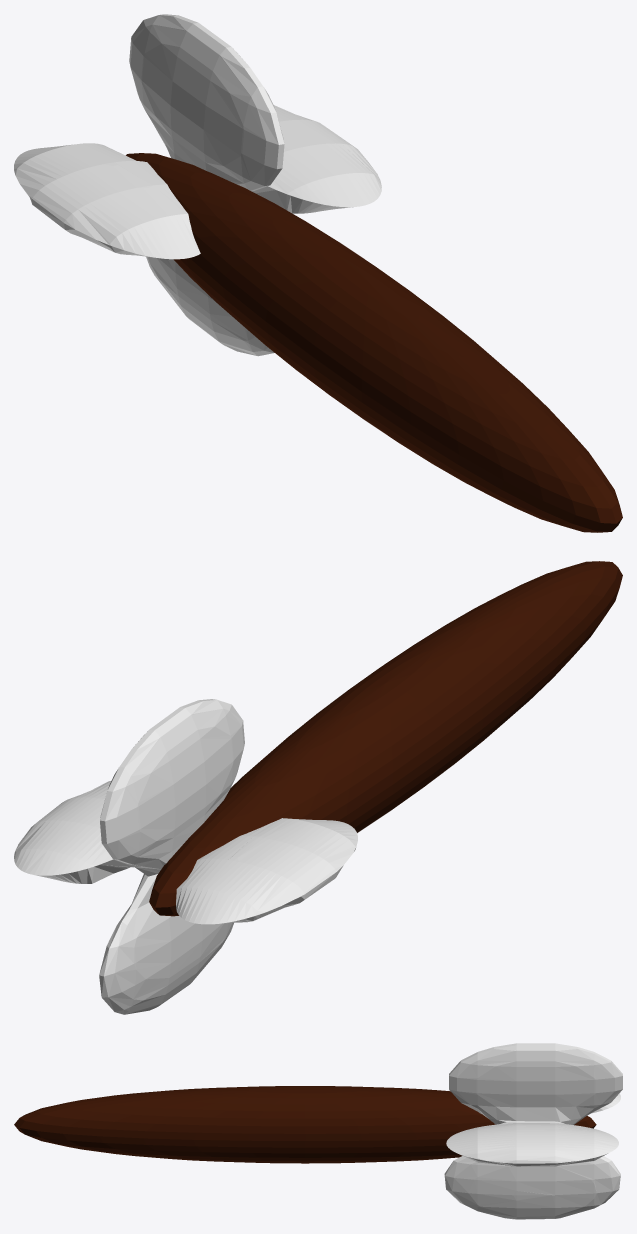
Rendered from missileBasic1.fbx.
The picture shows the model from 3 angles, top to bottom: view 1: azimuth 30°, elevation 25°; view 2: azimuth 150°, elevation 25°; view 3: azimuth 270°, elevation 25°; orthographic projection. The views are drawn at different scales.
Visible parts, largest first — view 1: Sphere, Mball; view 2: Sphere, Mball; view 3: Sphere, Mball.
Boxes of the visible parts, left/top/right/bottom form: Sphere: left=126, top=153, right=622, bottom=532; Mball: left=14, top=14, right=381, bottom=356; Sphere: left=149, top=561, right=622, bottom=916; Mball: left=14, top=699, right=357, bottom=1014; Sphere: left=14, top=1086, right=596, bottom=1163; Mball: left=444, top=1043, right=622, bottom=1219.
Size of the model in its own units: 10.39 by 9.96 by 31.36.
